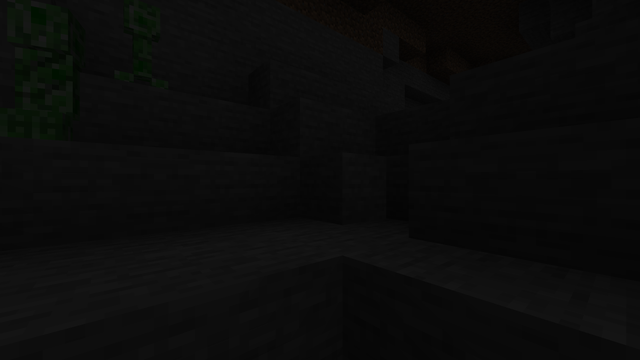creepers: (4, 1, 84, 121), (118, 0, 163, 86)
